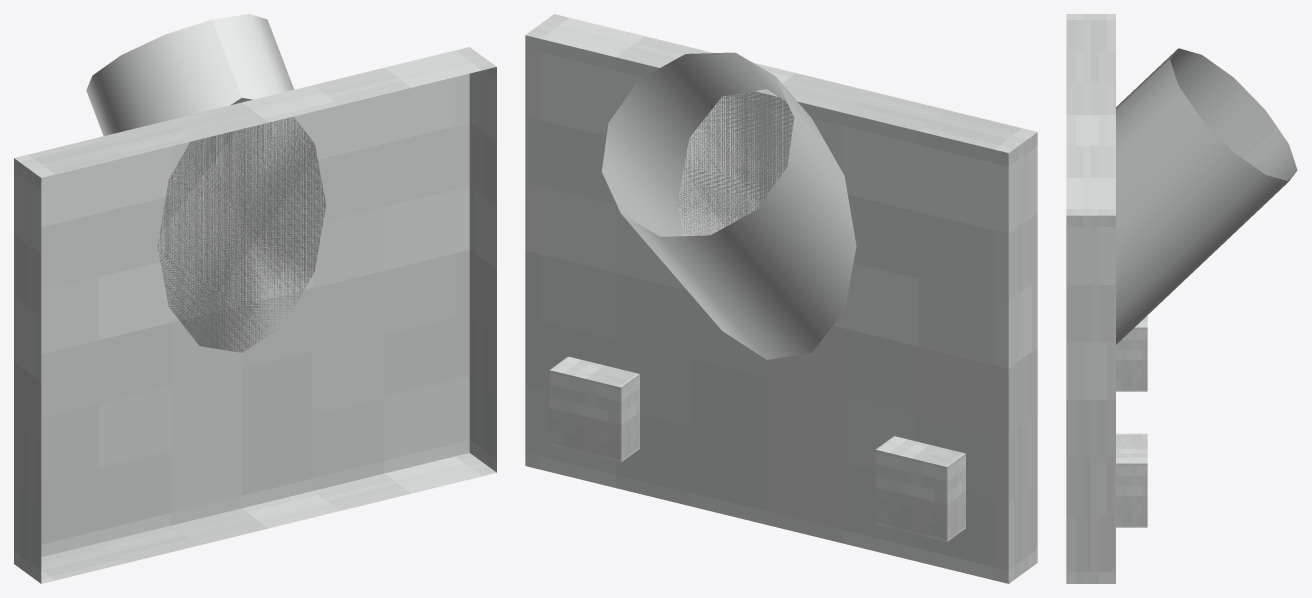
The model's file is luminairearm_truss8ft_c1_wall.obj.
3 views of the same model, side by side, from view 1: azimuth 30°, elevation 25°; view 2: azimuth 150°, elevation 25°; view 3: azimuth 270°, elevation 25° (orthographic). The views are drawn at different scales.
Visible parts, largest first — view 1: luminairearm_truss8ft_c1_wall; view 2: luminairearm_truss8ft_c1_wall; view 3: luminairearm_truss8ft_c1_wall.
Part boxes in pixels (x1,y1,x2,y2): luminairearm_truss8ft_c1_wall: (14, 14, 496, 583); luminairearm_truss8ft_c1_wall: (525, 14, 1037, 583); luminairearm_truss8ft_c1_wall: (1066, 14, 1297, 583).
Size of the model in its own units: 0.4219 by 0.4132 by 0.2044.
